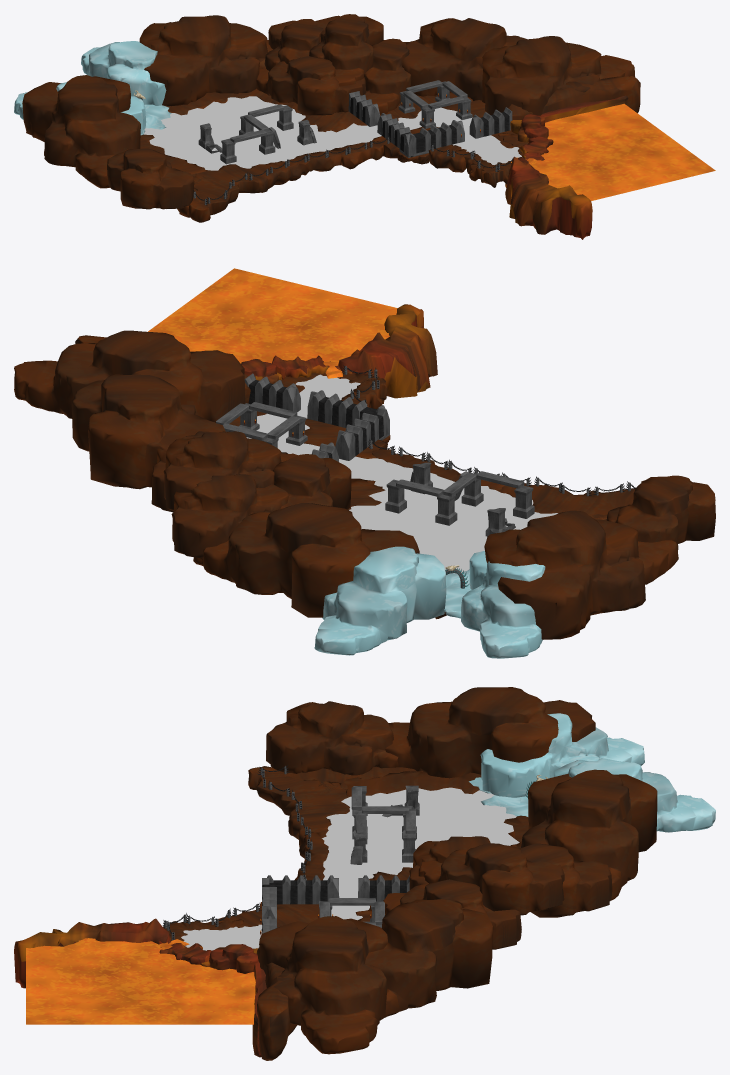
3 renders of one model, top to bottom at view 1: azimuth 30°, elevation 25°; view 2: azimuth 150°, elevation 25°; view 3: azimuth 270°, elevation 25°, orthographic. The views are drawn at different scales.
Visible parts, largest first — view 1: pTorus106; view 2: pTorus106; view 3: pTorus106.
Boxes of the visible parts, box(x1,y1,x2,y2) form: pTorus106: box(14, 14, 715, 239); pTorus106: box(14, 268, 715, 658); pTorus106: box(14, 687, 715, 1060).
Size of the model in its own units: 1035 by 157 by 953.
